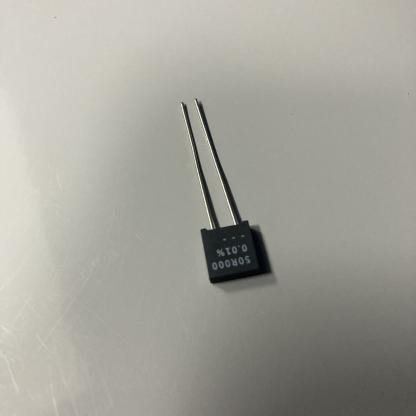SP0000008: (110, 69, 308, 294)
